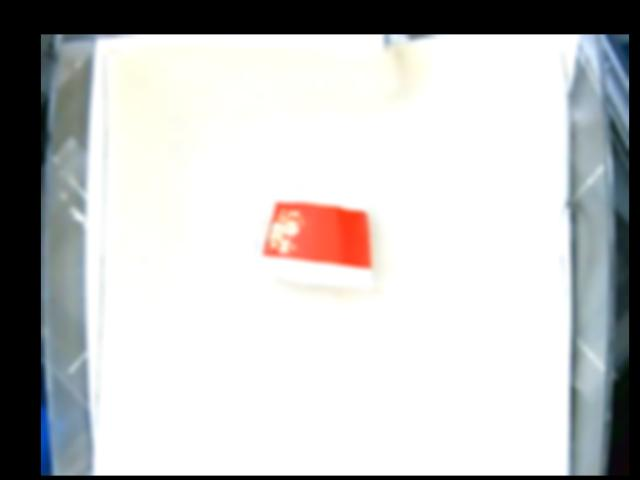Cup: (258, 187, 374, 291)
